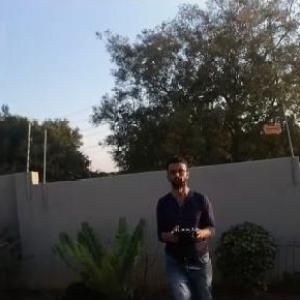follow: (151, 145, 221, 299)
